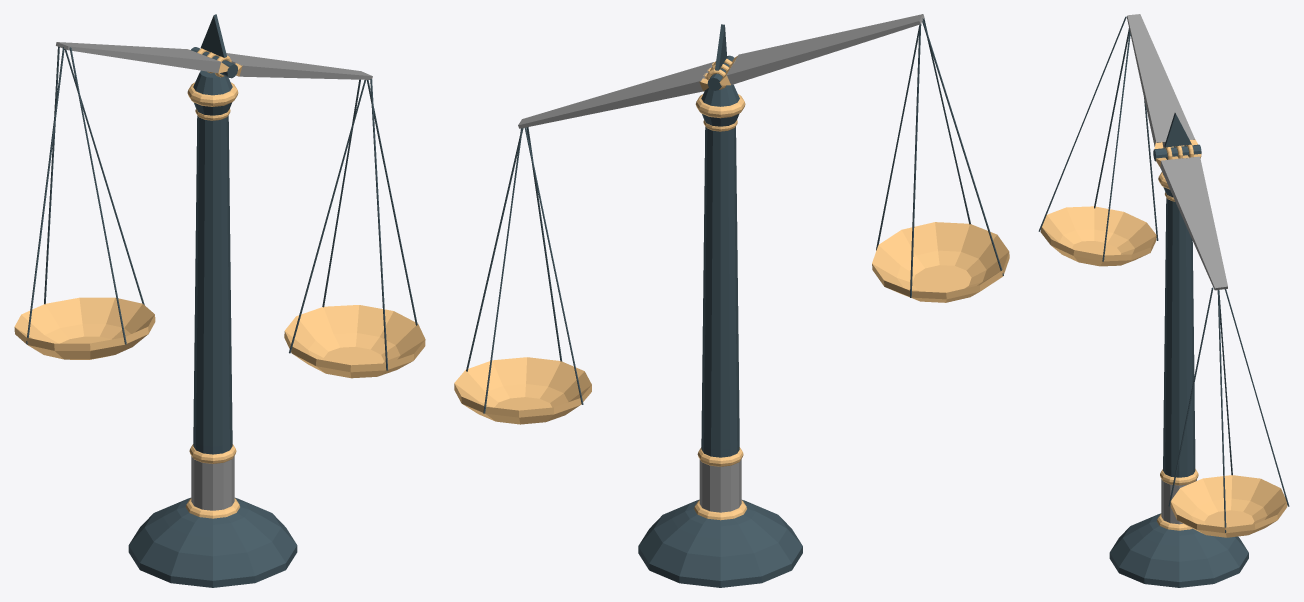
The model's file is Waage 2.fbx.
3 renders of one model, left to right at view 1: azimuth 30°, elevation 25°; view 2: azimuth 150°, elevation 25°; view 3: azimuth 270°, elevation 25°, orthographic. The views are drawn at different scales.
Visible parts, largest first — view 1: mesh_1645211238, mesh_1509641040, mesh_2063865923, mesh_2075815074, mesh_131527867, mesh_1640879320, mesh_1440307257, mesh_1512835569, mesh_717037476, mesh_1647324675, mesh_904988053, mesh_1700813215 (+5 smaller); view 2: mesh_1645211238, mesh_1509641040, mesh_2075815074, mesh_2063865923, mesh_131527867, mesh_1640879320, mesh_1440307257; view 3: mesh_1645211238, mesh_1509641040, mesh_2063865923, mesh_2075815074, mesh_1640879320, mesh_131527867, mesh_1440307257, mesh_995072892, mesh_1435350237, mesh_717037476, mesh_2011199820, mesh_1647324675 (+4 smaller).
Boxes of the visible parts, box(x1,y1,x2,y2) form: mesh_1645211238: box(193, 70, 232, 454); mesh_1509641040: box(128, 497, 297, 587); mesh_2063865923: box(284, 305, 425, 378); mesh_2075815074: box(14, 297, 155, 359); mesh_131527867: box(56, 42, 221, 72); mesh_1640879320: box(226, 53, 372, 79); mesh_1440307257: box(191, 456, 234, 510); mesh_1512835569: box(26, 47, 64, 343); mesh_717037476: box(370, 79, 387, 370); mesh_1647324675: box(69, 47, 126, 344); mesh_904988053: box(289, 80, 365, 353); mesh_1700813215: box(187, 82, 238, 106); mesh_1645211238: box(701, 84, 739, 457); mesh_1509641040: box(638, 499, 802, 587); mesh_2075815074: box(872, 222, 1009, 302); mesh_2063865923: box(454, 357, 591, 424); mesh_131527867: box(726, 14, 924, 84); mesh_1640879320: box(518, 62, 713, 128); mesh_1440307257: box(699, 459, 741, 512); mesh_1645211238: box(1163, 187, 1195, 477); mesh_1509641040: box(1109, 513, 1248, 587); mesh_2063865923: box(1170, 475, 1287, 537); mesh_2075815074: box(1040, 206, 1156, 266); mesh_1640879320: box(1160, 156, 1227, 290); mesh_131527867: box(1127, 14, 1195, 148); mesh_1440307257: box(1161, 479, 1196, 524); mesh_995072892: box(1217, 290, 1226, 532); mesh_1435350237: box(1164, 113, 1191, 147); mesh_717037476: box(1168, 287, 1213, 506); mesh_2011199820: box(1102, 31, 1130, 261); mesh_1647324675: box(1038, 16, 1126, 231).
Bounding box in the file's own units: 139 × 161 × 77.48.
